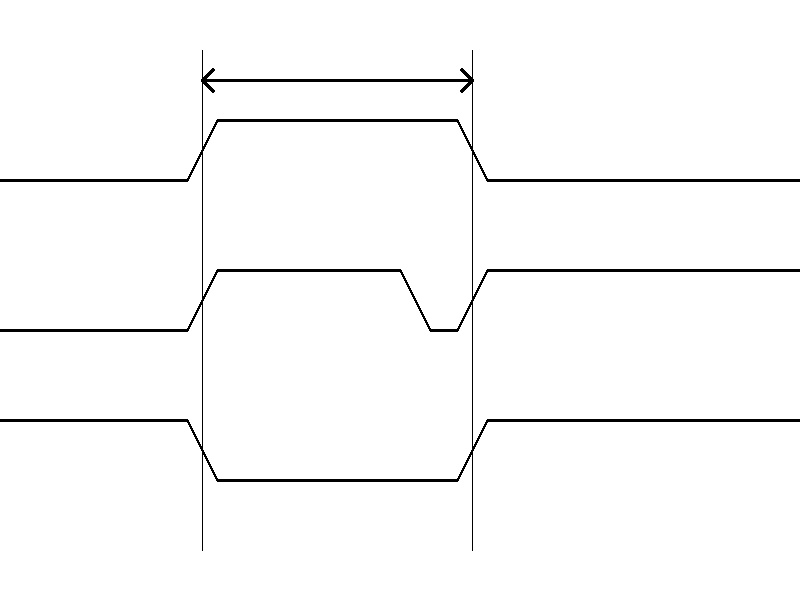double_arrow: (202, 65, 472, 95)
